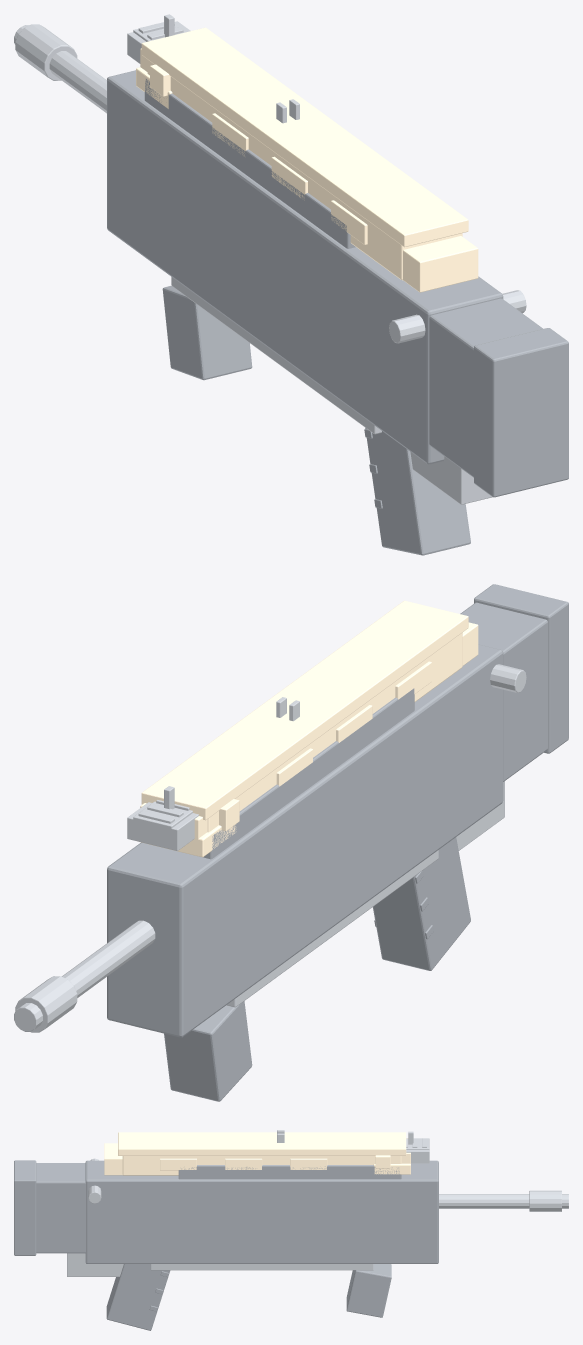
The picture shows the model from 3 angles, top to bottom: view 1: azimuth 30°, elevation 25°; view 2: azimuth 150°, elevation 25°; view 3: azimuth 270°, elevation 25°; orthographic projection. The views are drawn at different scales.
Parts seen in each view (by area): view 1: Receiver, mag, StockPlate, StockExt, Grip, Foregrip, TopDeck, TriggerGuardBridge, EjectionChute, Barrel, MuzzleComp, bolt (+1 smaller); view 2: Receiver, mag, Grip, StockExt, Foregrip, TopDeck, StockPlate, Barrel, TopRail, TriggerGuardBridge, MuzzleComp, EjectionChute (+2 smaller); view 3: Receiver, mag, StockExt, Grip, TopDeck, StockPlate, Foregrip, TriggerGuardBridge, Barrel, EjectionChute, MuzzleComp, TopRail (+1 smaller).
Part boxes in pixels (x1,y1,x2,y2): Receiver: (107, 70, 503, 464); mag: (140, 27, 478, 292); StockPlate: (474, 328, 568, 497); StockExt: (429, 298, 543, 477); Grip: (364, 428, 470, 555); Foregrip: (162, 285, 252, 380); TopDeck: (144, 79, 355, 248); TriggerGuardBridge: (171, 277, 381, 434); EjectionChute: (410, 452, 492, 504); Barrel: (14, 25, 106, 113); MuzzleComp: (15, 24, 77, 80); bolt: (389, 290, 526, 343); Receiver: (107, 644, 503, 1037); mag: (140, 600, 478, 856); Grip: (373, 837, 470, 970); StockExt: (460, 602, 547, 781); Foregrip: (164, 1001, 252, 1101); TopDeck: (203, 688, 414, 859); StockPlate: (474, 584, 568, 753); Barrel: (14, 920, 155, 1031); TopRail: (127, 800, 198, 850); TriggerGuardBridge: (226, 850, 438, 1007); MuzzleComp: (15, 976, 77, 1032); EjectionChute: (456, 781, 504, 850); Receiver: (85, 1160, 438, 1263); mag: (104, 1132, 410, 1175); StockExt: (36, 1163, 85, 1253); Grip: (106, 1264, 170, 1330); TopDeck: (178, 1165, 401, 1179); StockPlate: (14, 1160, 36, 1255); Foregrip: (346, 1264, 391, 1317); TriggerGuardBridge: (150, 1264, 373, 1270); Barrel: (439, 1194, 568, 1208); EjectionChute: (67, 1253, 123, 1276); MuzzleComp: (529, 1190, 561, 1211); TopRail: (406, 1138, 429, 1163).
Size of the model in its own units: 0.086 by 0.2283 by 0.597.
